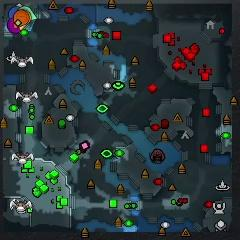p1: (9, 7, 20, 19)
p2: (19, 6, 36, 20)
p3: (7, 19, 20, 33)
p4: (19, 10, 31, 32)
p5: (14, 10, 29, 28)
